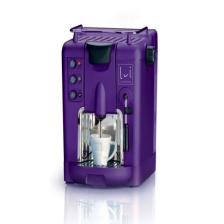purple: (62, 25, 157, 186)
